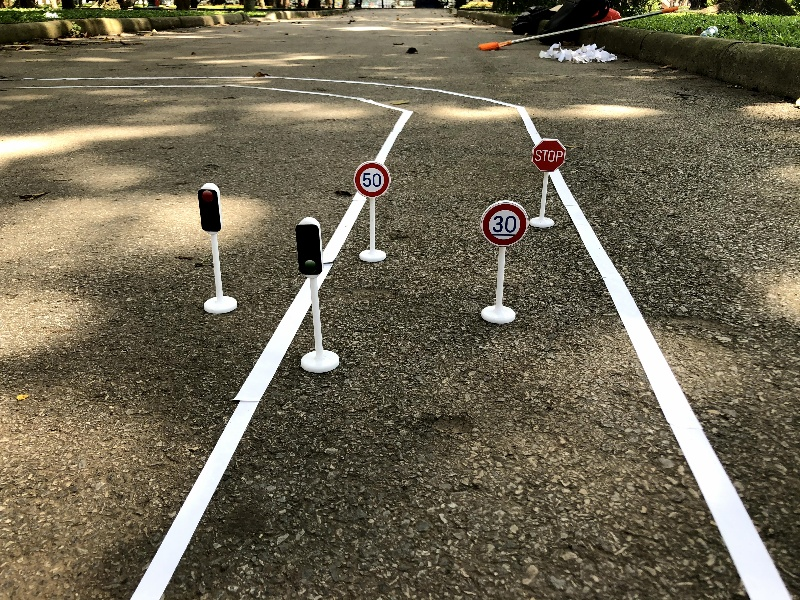Green: (292, 214, 345, 377)
Limit 30: (477, 199, 531, 325)
Limit 50: (353, 159, 392, 263)
Red: (194, 180, 243, 315)
Stop: (528, 138, 566, 229)
